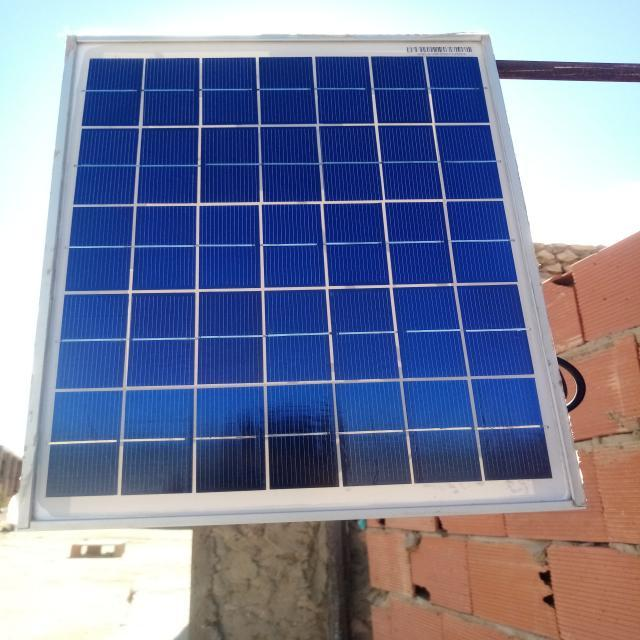no faulty: (18, 35, 589, 529)
